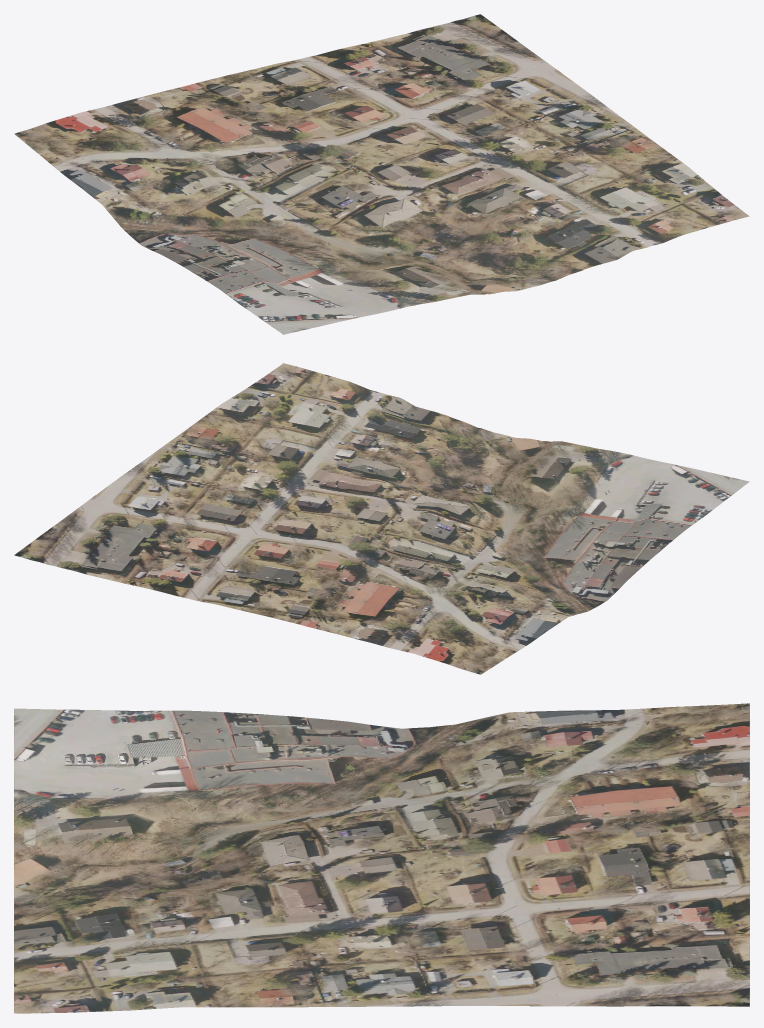
File: CM_Terrain_24491073_6820818.fbx
3 renders of one model, top to bottom at view 1: azimuth 30°, elevation 25°; view 2: azimuth 150°, elevation 25°; view 3: azimuth 270°, elevation 25°, orthographic. The views are drawn at different scales.
Visible parts, largest first — view 1: CM_Terrain_24491073_6820818_LOD0; view 2: CM_Terrain_24491073_6820818_LOD0; view 3: CM_Terrain_24491073_6820818_LOD0.
Boxes of the visible parts, x1,y1,x2,y2 form: CM_Terrain_24491073_6820818_LOD0: (14, 14, 749, 334); CM_Terrain_24491073_6820818_LOD0: (14, 363, 749, 674); CM_Terrain_24491073_6820818_LOD0: (14, 703, 749, 1013).
Size of what is drawn, in the model's own units: 205 by 11.26 by 205.
